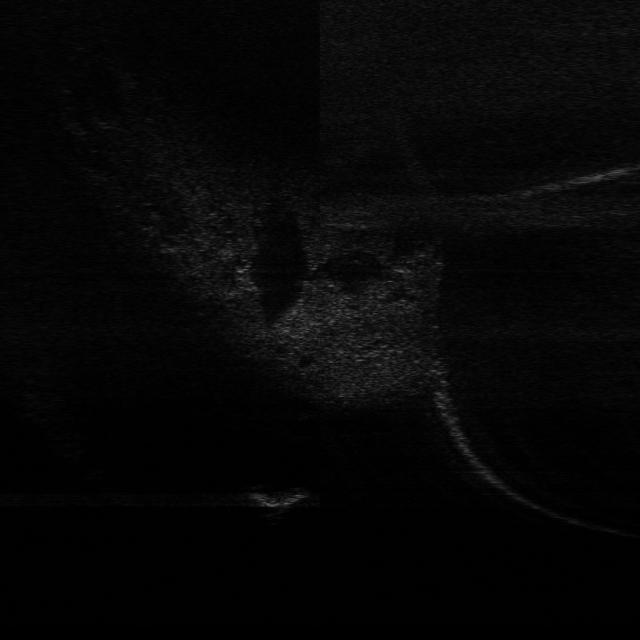cube: (243, 482, 309, 510)
